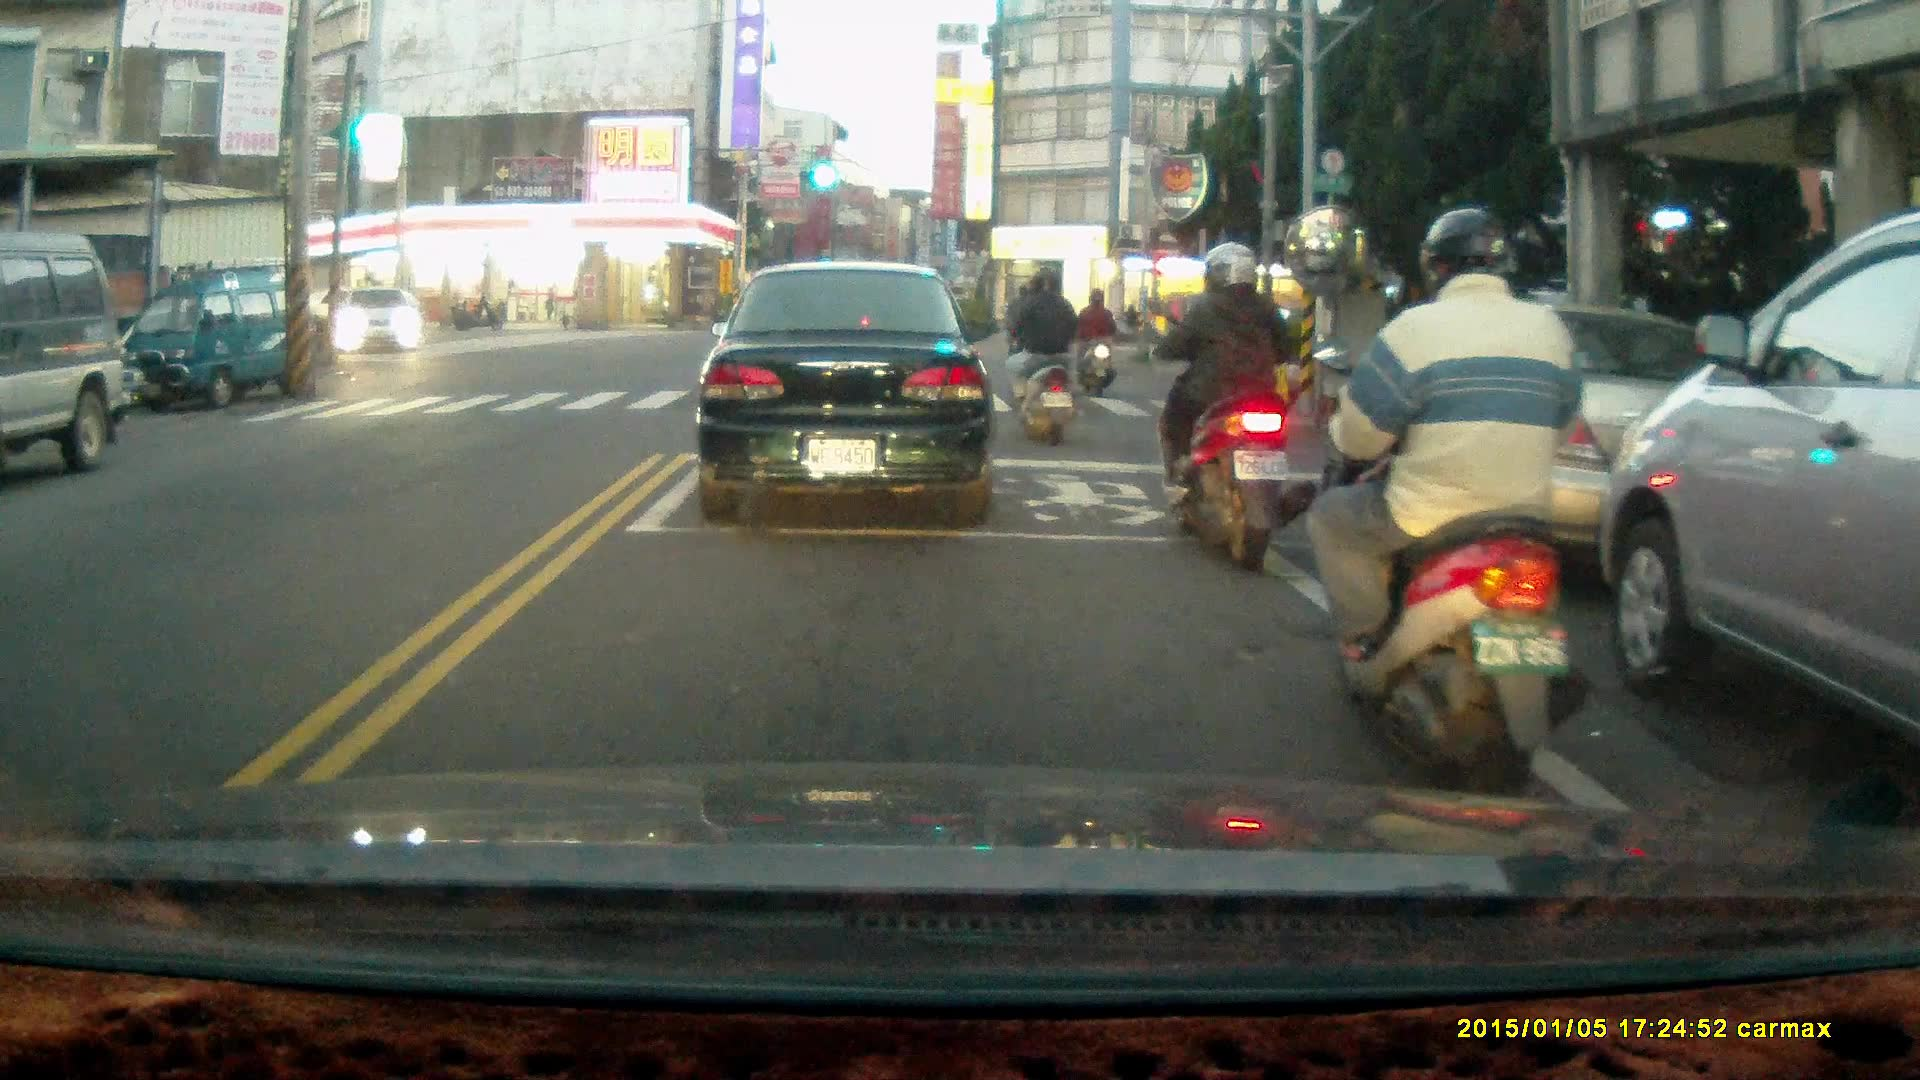rider: (1311, 209, 1599, 816), (1149, 239, 1318, 576), (1004, 263, 1078, 446), (1076, 285, 1117, 400)
vehicle: (1601, 215, 1920, 793), (693, 257, 997, 528), (1, 234, 128, 482), (133, 263, 293, 409), (333, 288, 424, 359)
